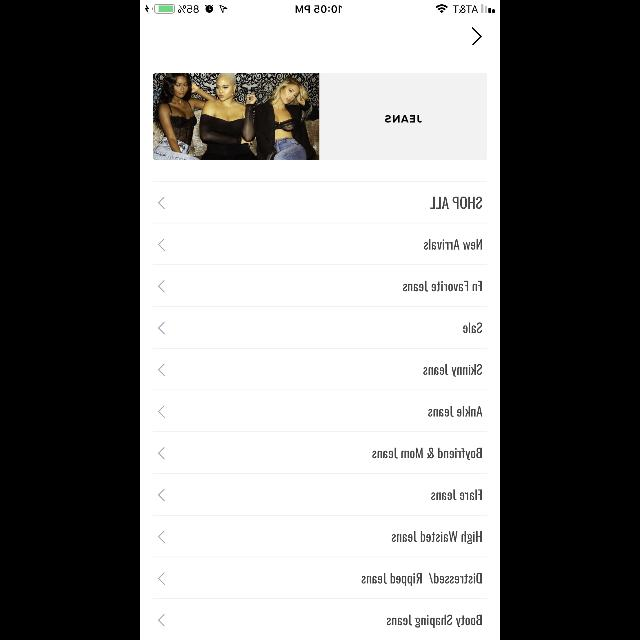icon: (472, 27, 482, 45), (158, 197, 165, 209), (158, 239, 165, 251), (158, 280, 165, 292), (158, 322, 165, 334), (158, 364, 165, 376), (158, 406, 165, 418), (158, 447, 165, 459), (158, 489, 165, 501), (158, 531, 165, 543), (158, 573, 165, 585), (158, 614, 165, 626)
image: (153, 74, 319, 160)
text: (361, 572, 481, 586), (386, 614, 482, 628), (372, 448, 482, 460), (392, 530, 482, 544), (402, 280, 482, 292), (422, 364, 482, 376), (424, 238, 482, 250), (430, 197, 482, 210), (428, 406, 482, 416), (431, 490, 482, 500), (384, 115, 422, 123), (462, 322, 482, 333)
uppertaskbar: (140, 0, 500, 14)
